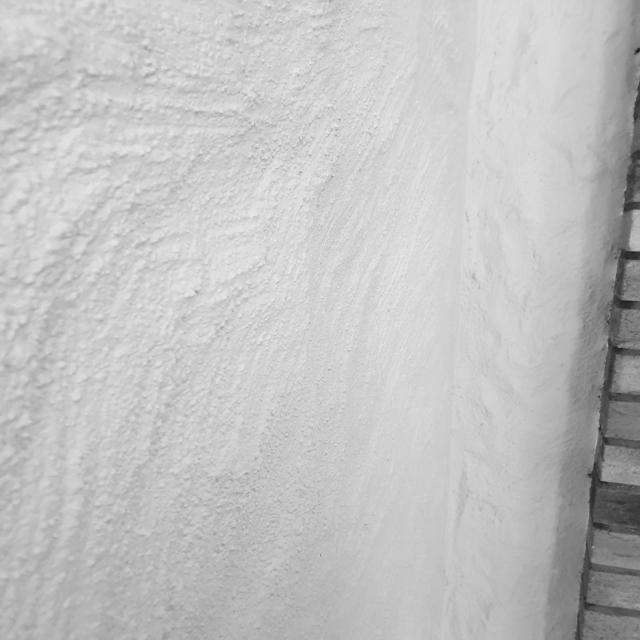rough and patchy surface: (0, 0, 414, 640)
